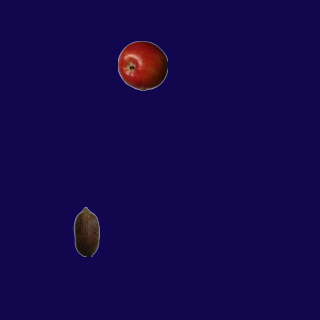Apple Braeburn: (117, 40, 167, 90)
Nut Pecan: (61, 206, 111, 256)
